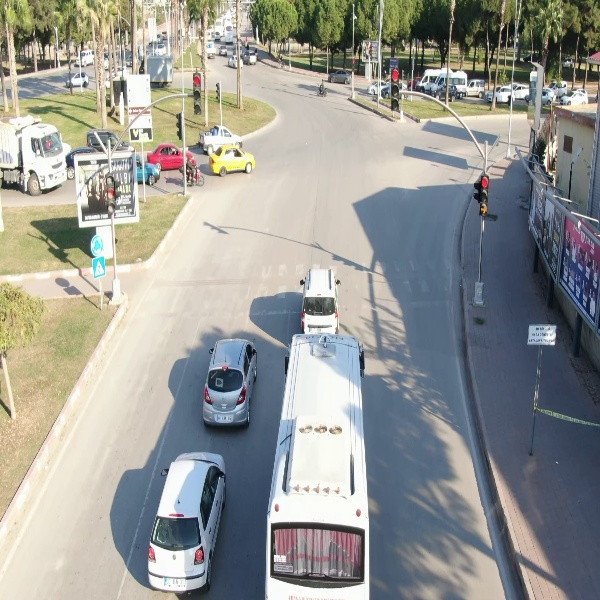car: (140, 447, 231, 596), (200, 337, 262, 432), (208, 143, 256, 178), (432, 82, 462, 102), (64, 70, 91, 91), (328, 67, 354, 85), (561, 90, 591, 104)
